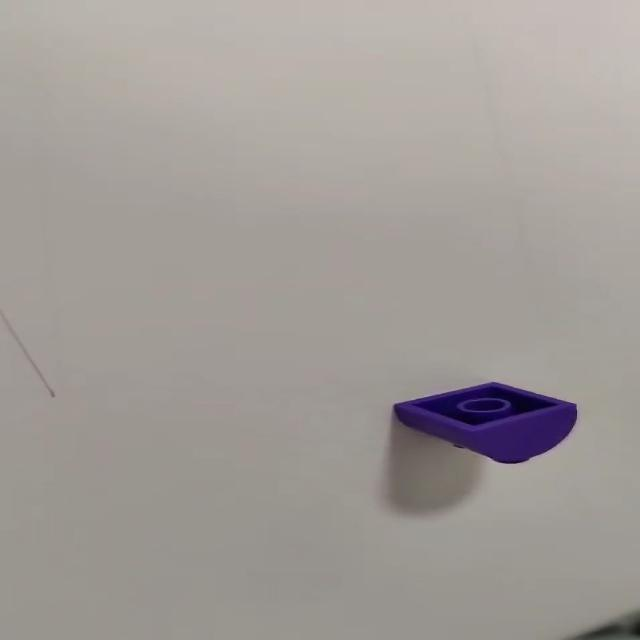H2x2x1: (395, 383, 579, 465)
